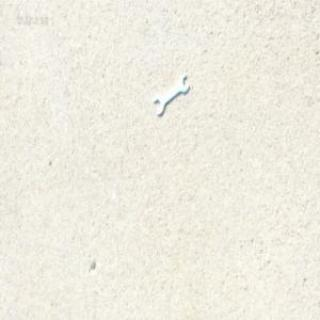Wrenchtrack_idkeyframe: (154, 74, 189, 115)
